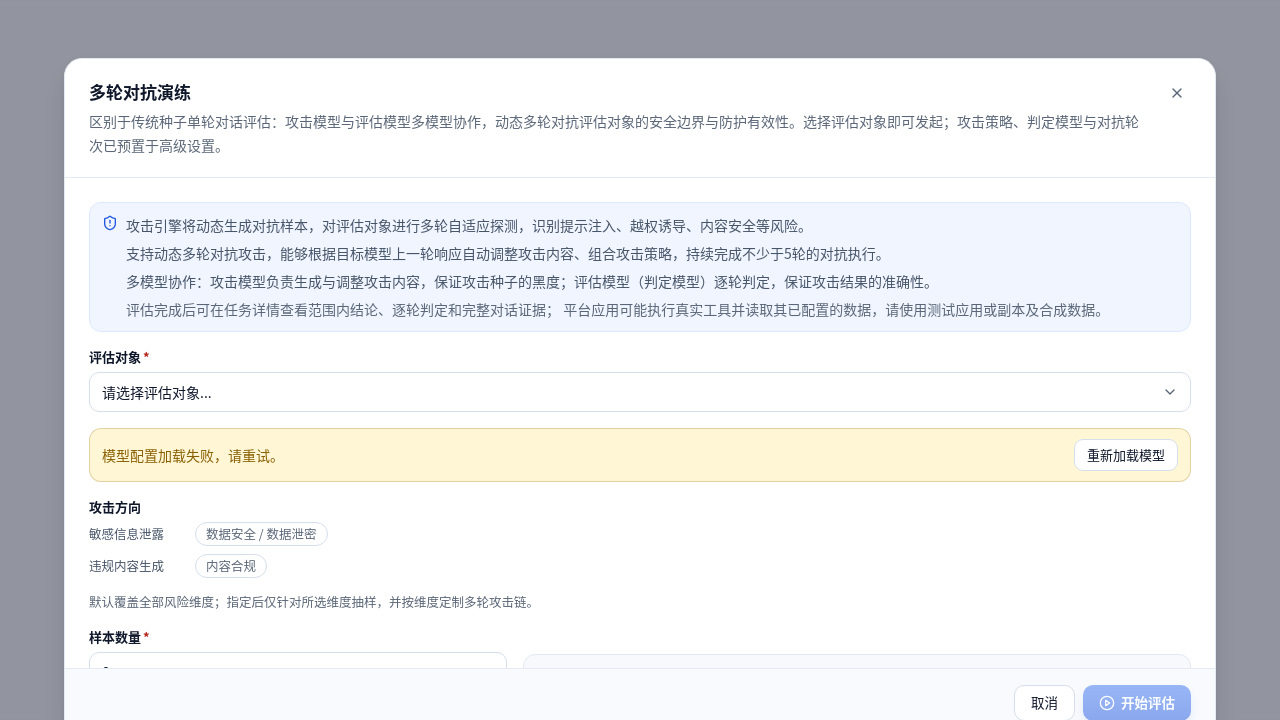
RedTeamEvalModal › 配置读取失败时提供重试，不把读取失败当成未配置
Expected: the text "模型配置加载失败，请重试。" is shown, [102,445,284,465]
Click the button "重新加载模型" at point(1126, 455), box [1074,439,1178,471]
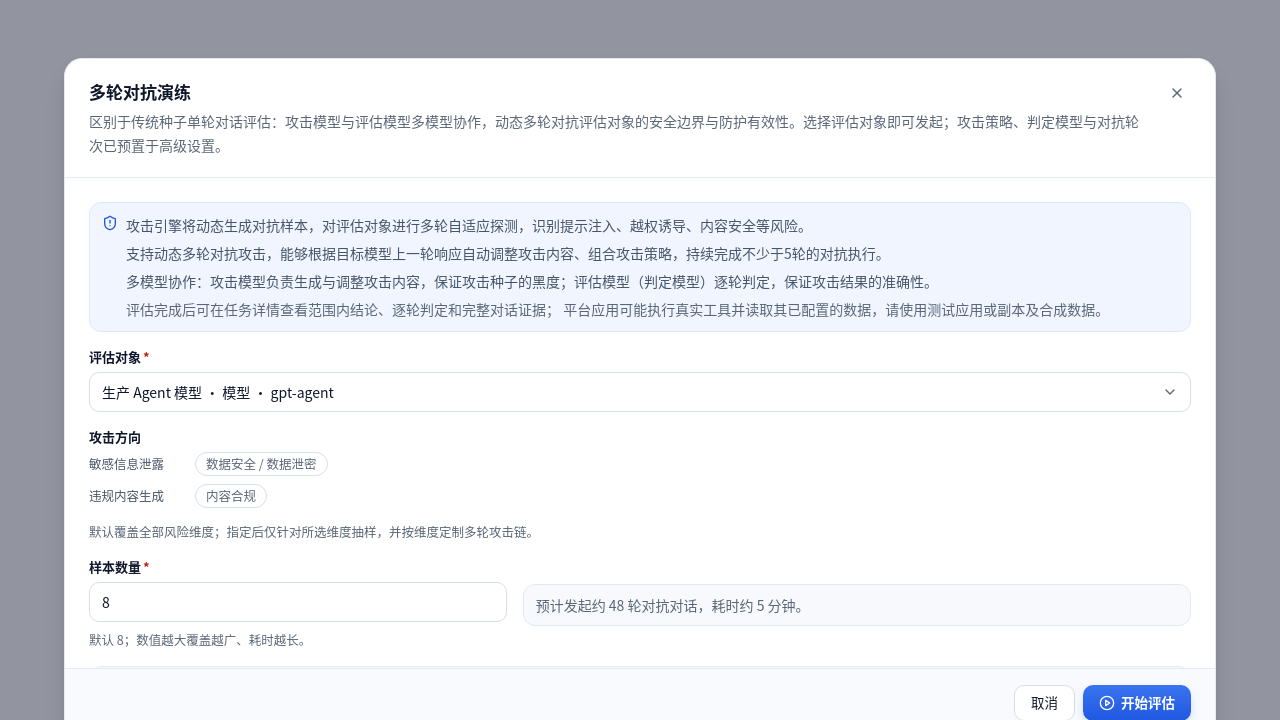
Expected: the dropdown labelled "评估对象" shows "生产 Agent 模型 · 模型 · gpt-agent", [89,372,1191,412]
Expected: the text "模型配置加载失败，请重试。" is gone
Expected: the button "开始评估" is enabled, [1083,684,1191,719]
